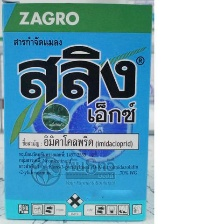book: (0, 0, 154, 222)
